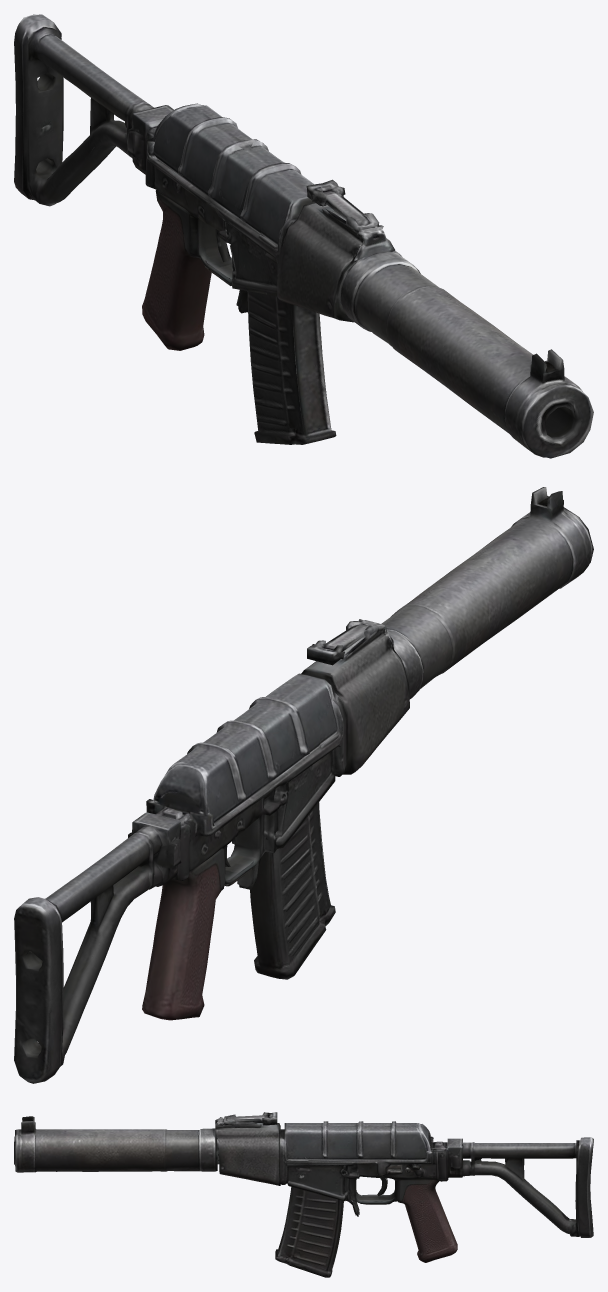
Rendered from g_val.glb.
3 views of the same model, one above another, from view 1: azimuth 30°, elevation 25°; view 2: azimuth 150°, elevation 25°; view 3: azimuth 270°, elevation 25° (orthographic). The views are drawn at different scales.
Visible parts, largest first — view 1: tripo_node_9fd1f1e9-e99f-467e-ba43-0057b0f31180; view 2: tripo_node_9fd1f1e9-e99f-467e-ba43-0057b0f31180; view 3: tripo_node_9fd1f1e9-e99f-467e-ba43-0057b0f31180.
Boxes of the visible parts, x1,y1,x2,y2 form: tripo_node_9fd1f1e9-e99f-467e-ba43-0057b0f31180: (14,14,593,458); tripo_node_9fd1f1e9-e99f-467e-ba43-0057b0f31180: (14,487,593,1083); tripo_node_9fd1f1e9-e99f-467e-ba43-0057b0f31180: (14,1112,593,1277).
Size of the model in its own units: 0.0926 by 0.297 by 0.9842.
Materials: 1 (1 with a texture image).
